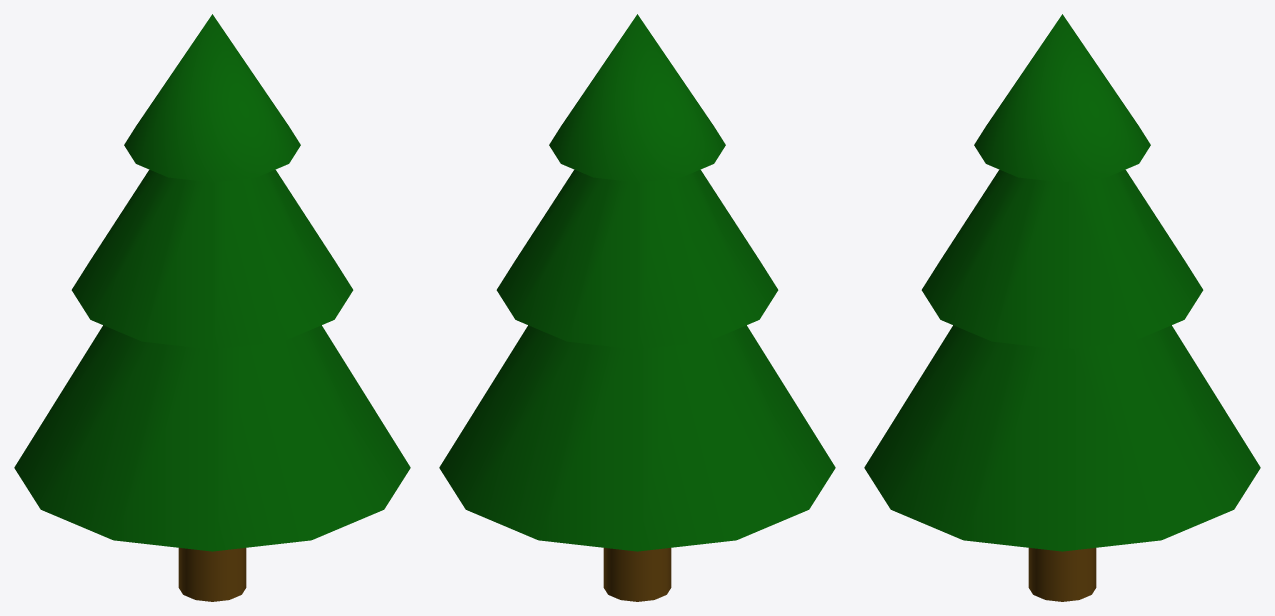
File: Tree.fbx
3 renders of one model, left to right at view 1: azimuth 30°, elevation 25°; view 2: azimuth 150°, elevation 25°; view 3: azimuth 270°, elevation 25°, orthographic.
Parts seen in each view (by area): view 1: Tree; view 2: Tree; view 3: Tree.
Part boxes in pixels (box(x1,y1,x2,y2)): Tree: box(14, 14, 410, 601); Tree: box(439, 14, 835, 601); Tree: box(864, 14, 1260, 601).
Bounding box in the file's own units: 0.3054 × 0.4874 × 0.3054.
